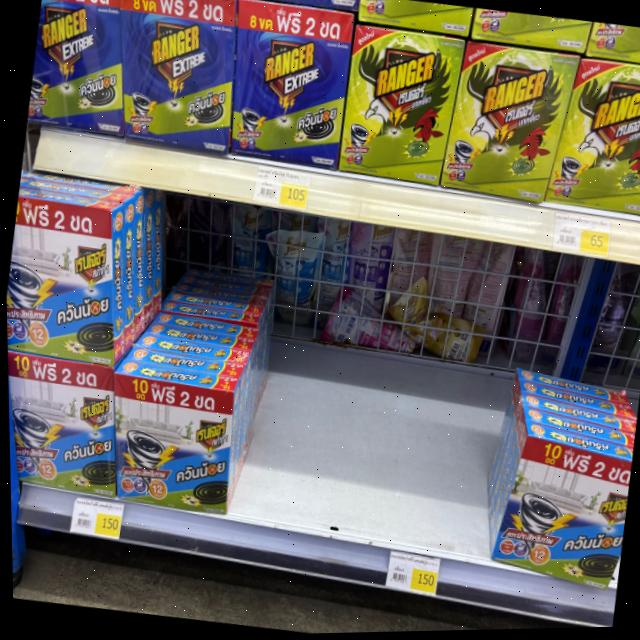empty_shelf: (227, 210, 538, 562), (113, 189, 281, 391), (527, 250, 640, 458)
